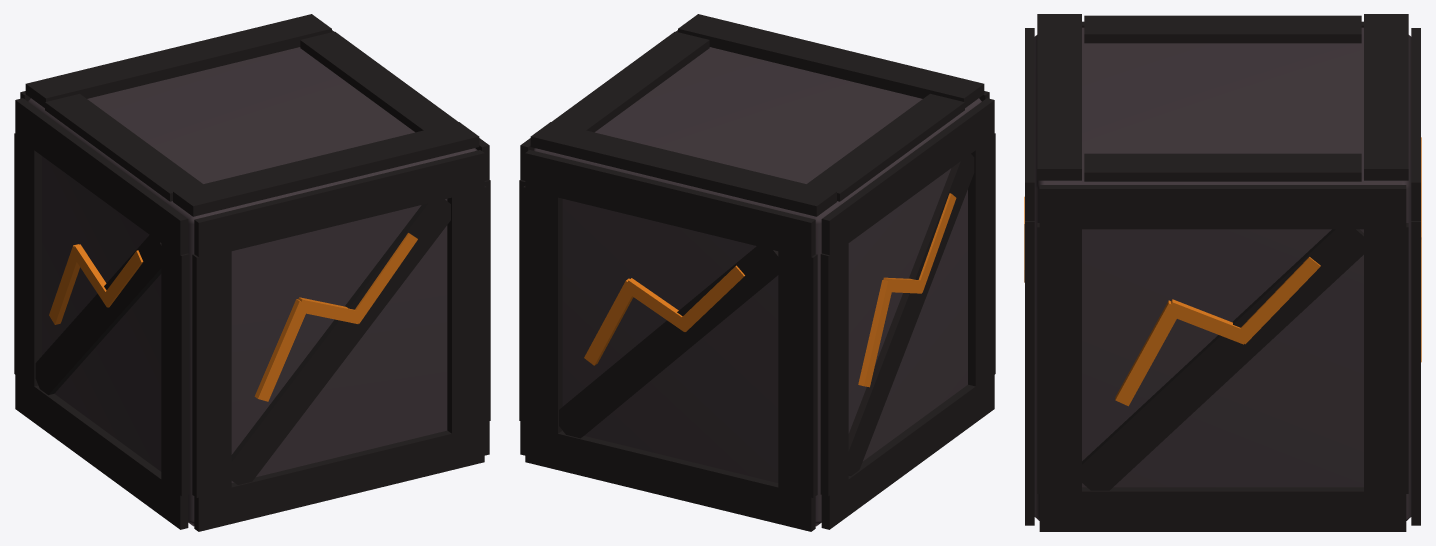
Rendered from candy-crate.glb.
The picture shows the model from 3 angles, left to right: view 1: azimuth 30°, elevation 25°; view 2: azimuth 150°, elevation 25°; view 3: azimuth 270°, elevation 25°; orthographic projection. The views are drawn at different scales.
Visible parts, largest first — view 1: candy-crate; view 2: candy-crate; view 3: candy-crate.
Part boxes in pixels (box(x1,y1,x2,y2)): candy-crate: box(14, 14, 490, 531); candy-crate: box(519, 14, 995, 531); candy-crate: box(1024, 14, 1421, 531).
Bounding box in the file's own units: 0.802 × 0.8 × 0.802.
